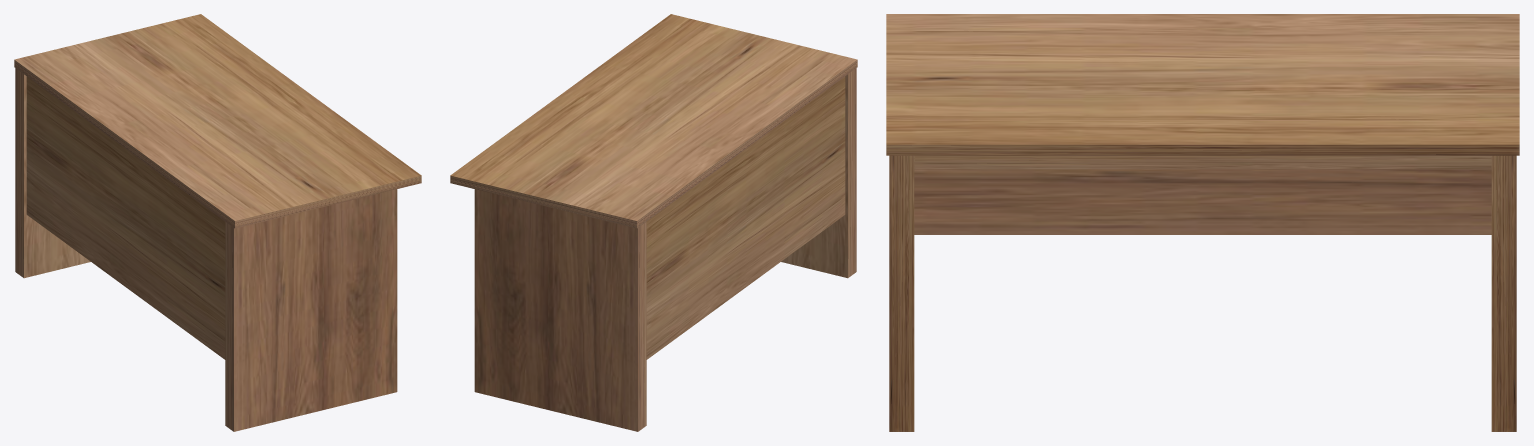
The model's file is tableOld.fbx.
3 views of the same model, side by side, from view 1: azimuth 30°, elevation 25°; view 2: azimuth 150°, elevation 25°; view 3: azimuth 270°, elevation 25° (orthographic). The views are drawn at different scales.
Parts seen in each view (by area): view 1: Table; view 2: Table; view 3: Table.
Part boxes in pixels (x1,y1,x2,y2): Table: [14, 14, 421, 431]; Table: [450, 14, 857, 431]; Table: [886, 14, 1519, 431].
Size of the model in its own units: 333 by 360 by 681.
